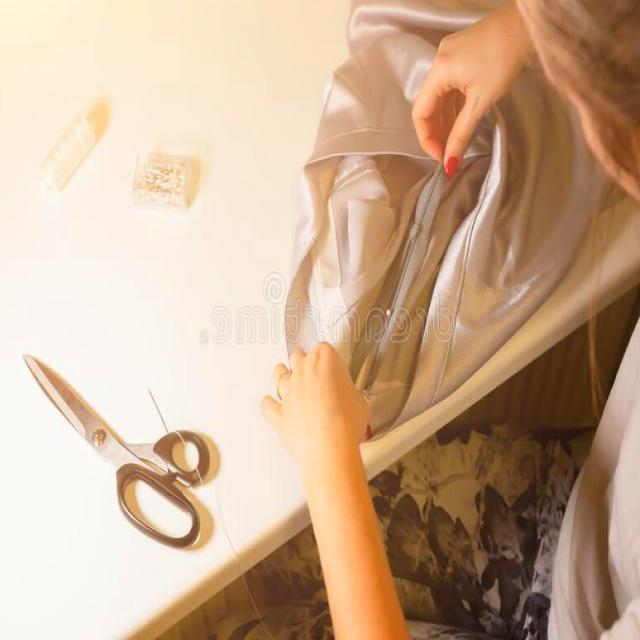clothes: (284, 0, 412, 361), (429, 123, 588, 374)
